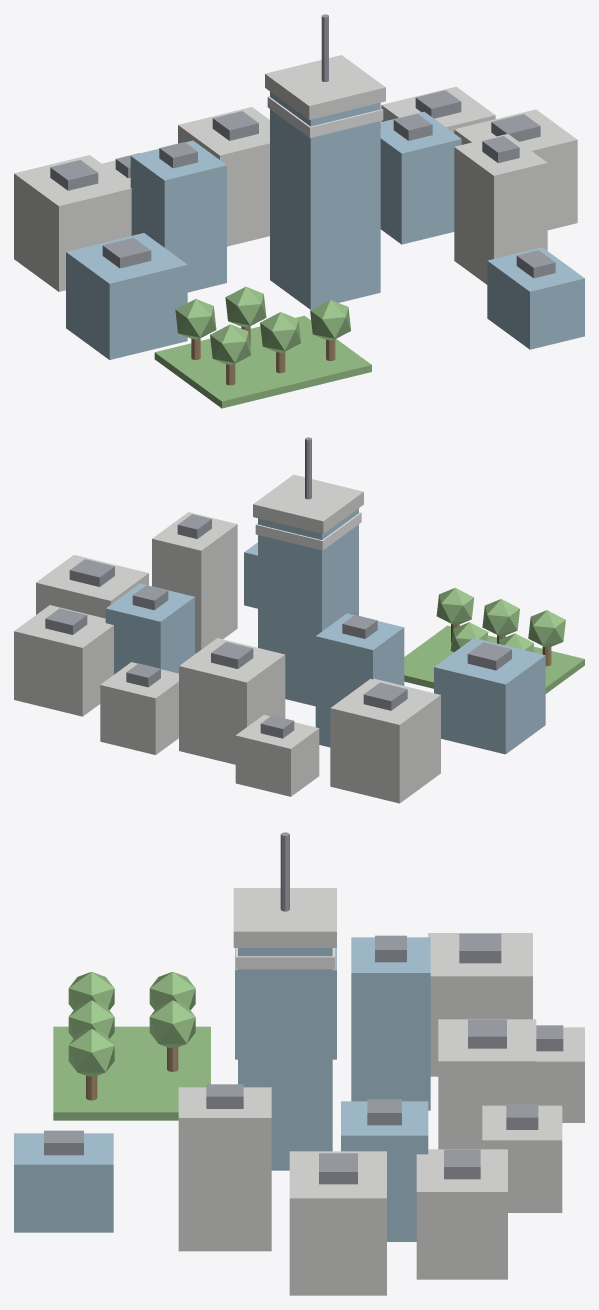
Rendered from civ_city_modern_town.glb.
3 renders of one model, top to bottom at view 1: azimuth 30°, elevation 25°; view 2: azimuth 150°, elevation 25°; view 3: azimuth 270°, elevation 25°, orthographic. The views are drawn at different scales.
Visible parts, largest first — view 1: civ_city_modern_town; view 2: civ_city_modern_town; view 3: civ_city_modern_town.
Part boxes in pixels (bbox=[...]): civ_city_modern_town: bbox=[14, 14, 584, 408]; civ_city_modern_town: bbox=[14, 437, 584, 803]; civ_city_modern_town: bbox=[14, 832, 584, 1295].
Bounding box in the file's own units: 2.95 × 1.55 × 2.54.
